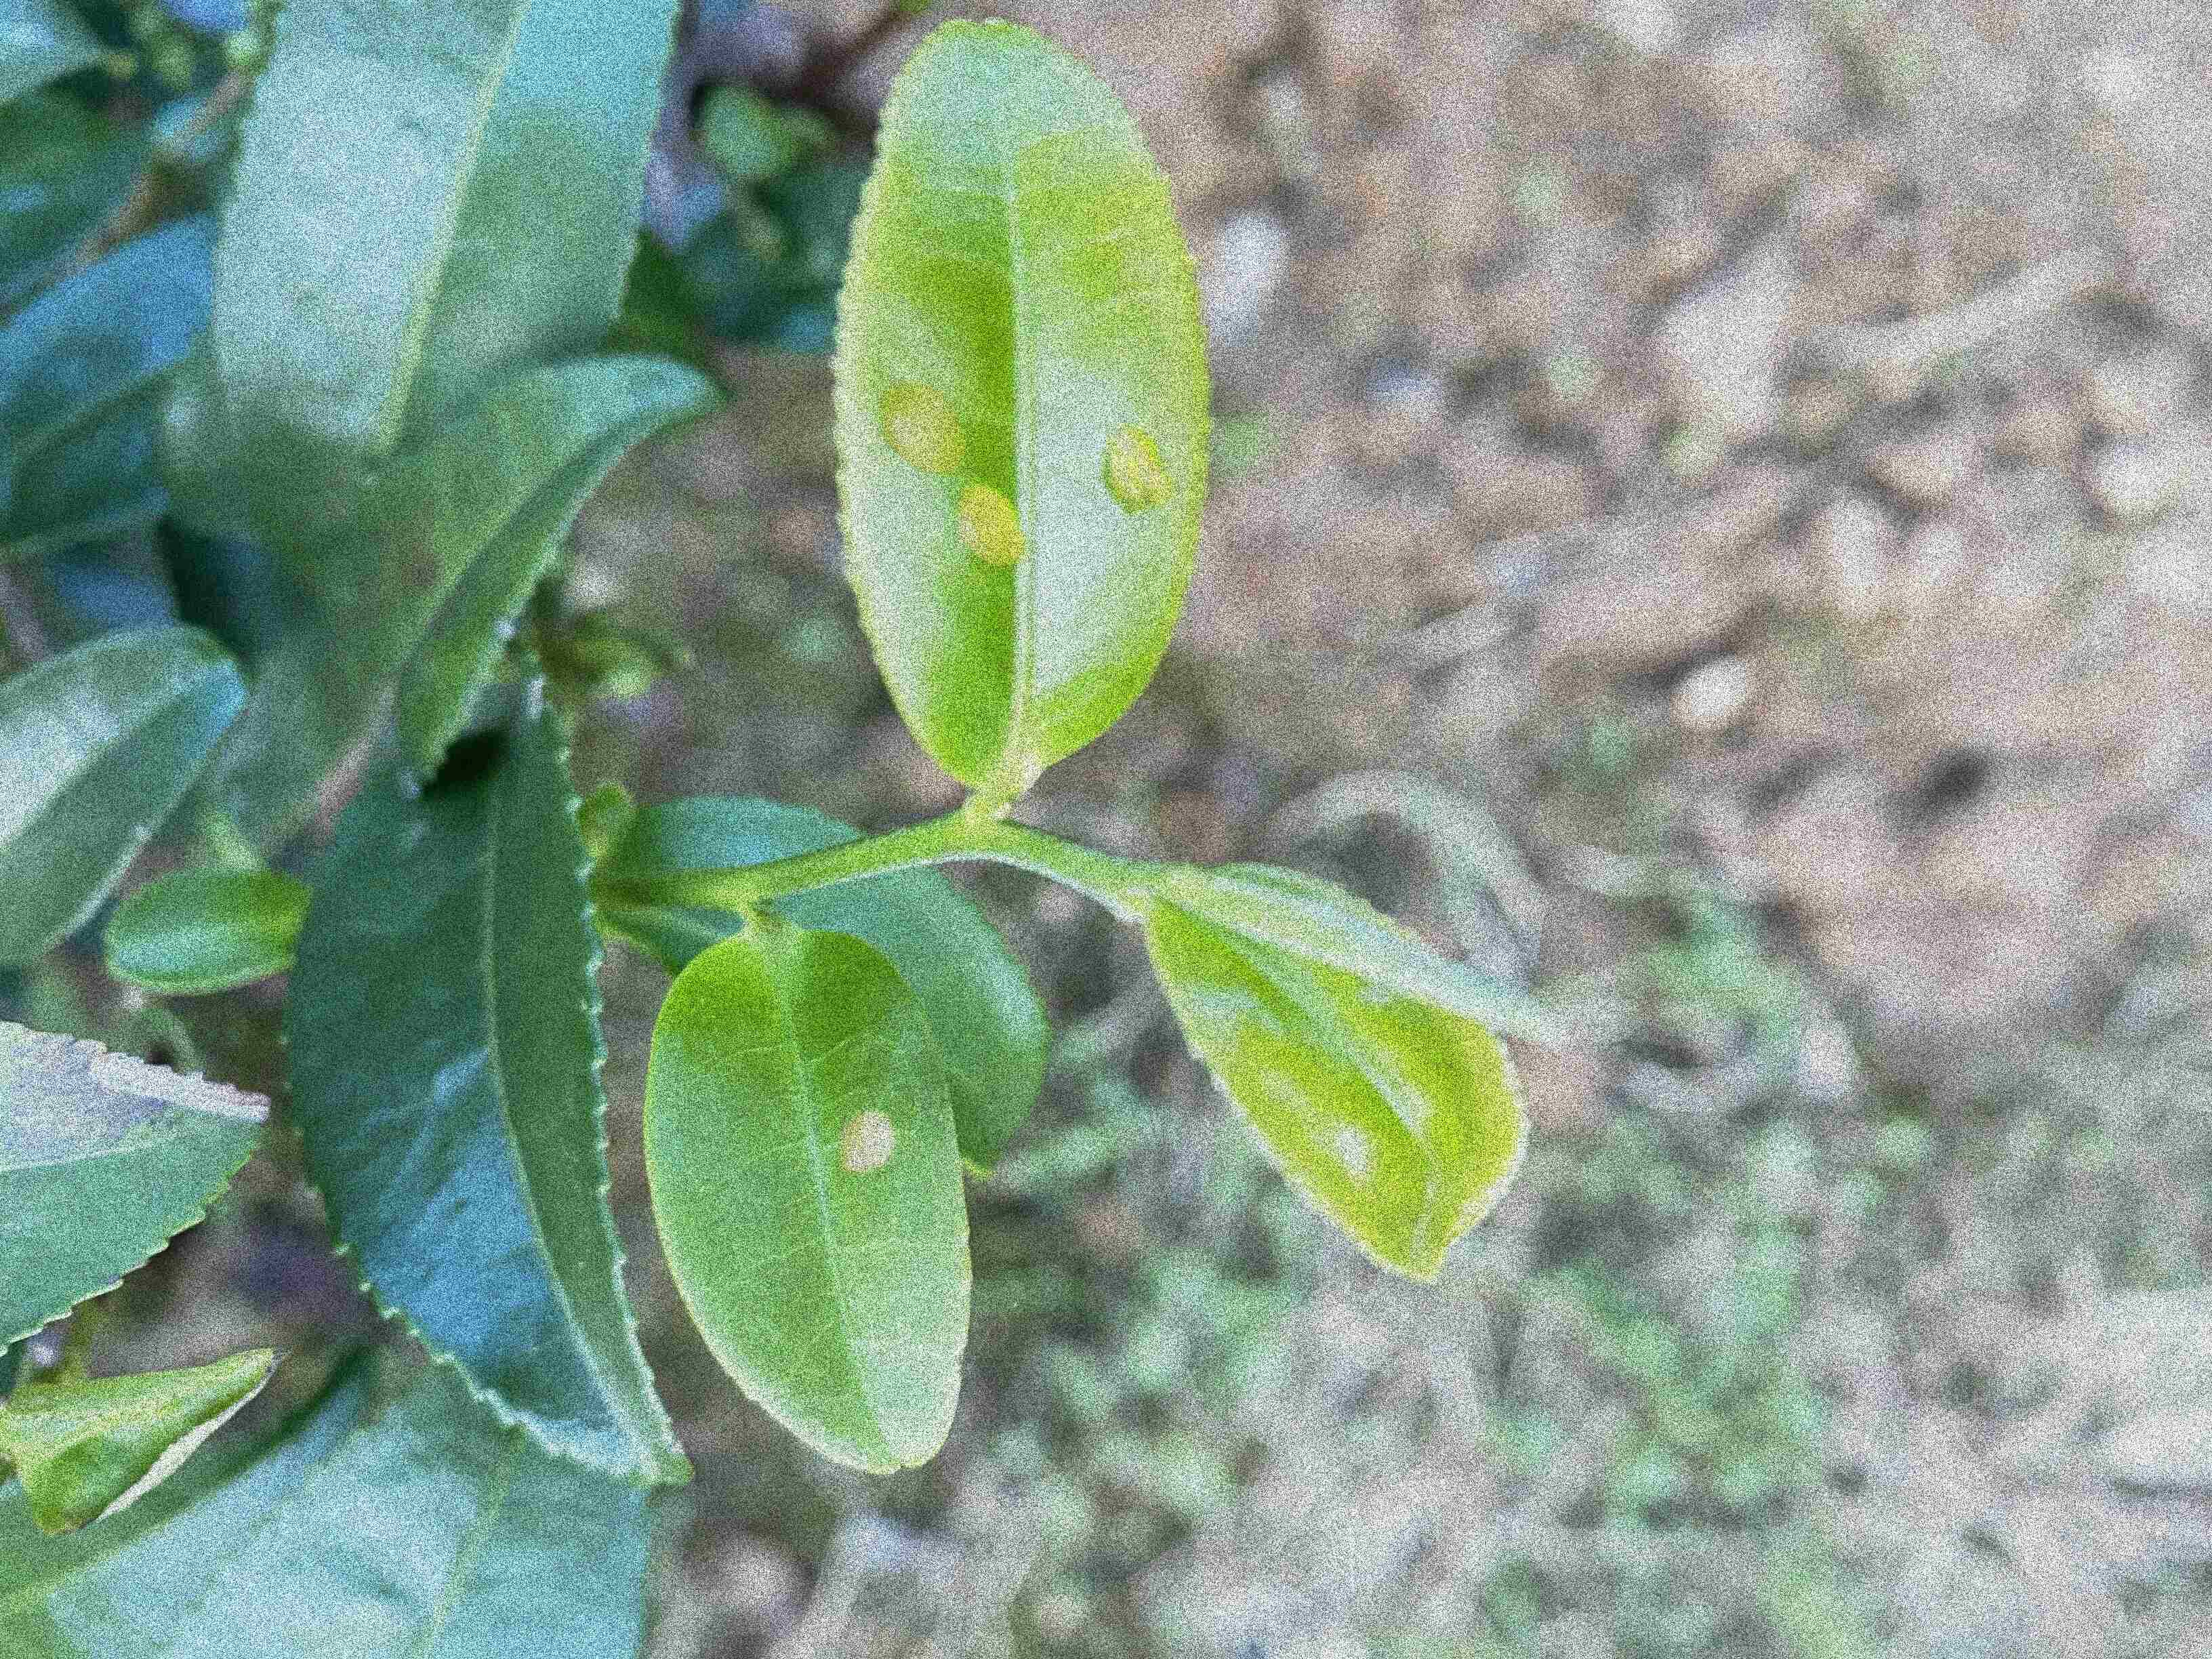chabing_high: (826, 12, 1212, 805)
chabing_low: (641, 927, 974, 1473)
healthy: (280, 708, 698, 1490), (1150, 856, 1531, 1284)
tanju_high: (2, 1019, 275, 1358)
